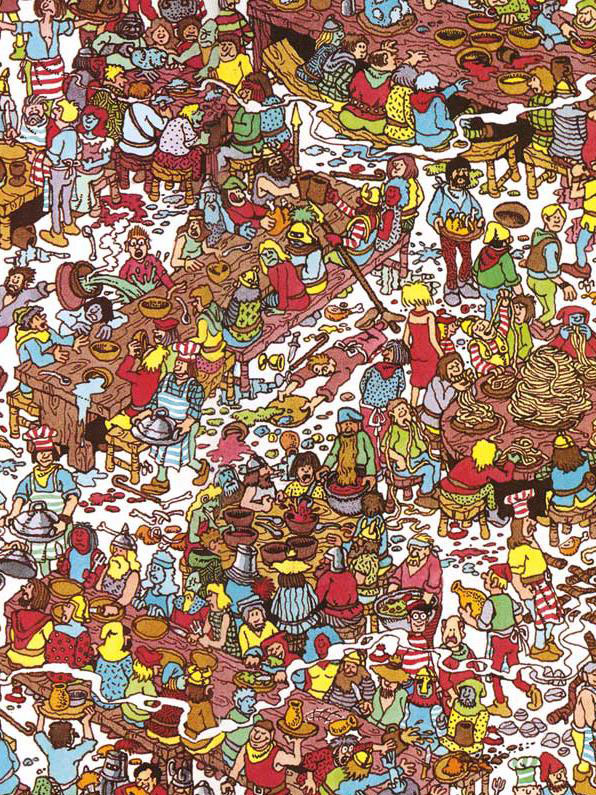waldo: (405, 594, 431, 634)
